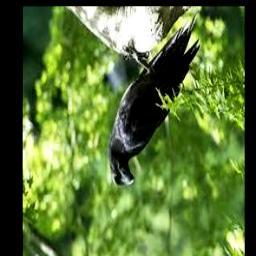Crow: (108, 10, 200, 190)
